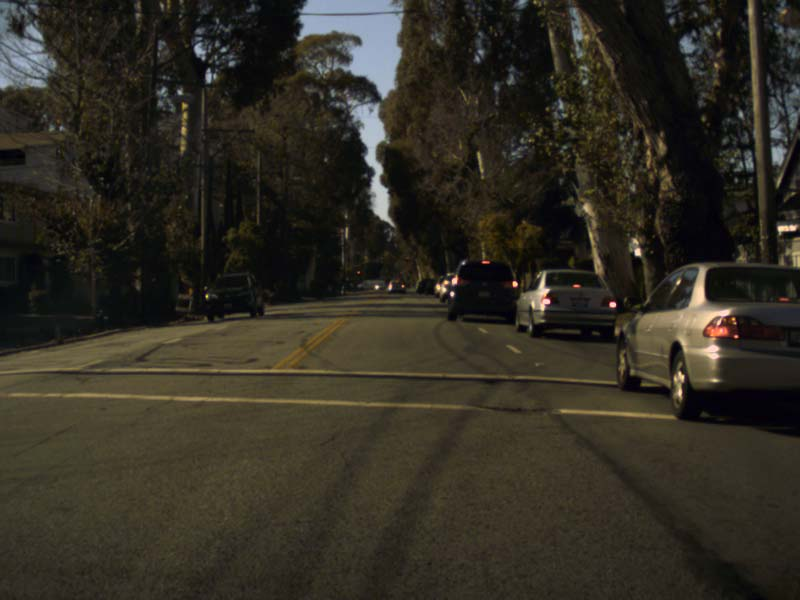Red: (354, 269, 361, 277)
Yellow: (404, 255, 408, 262)
